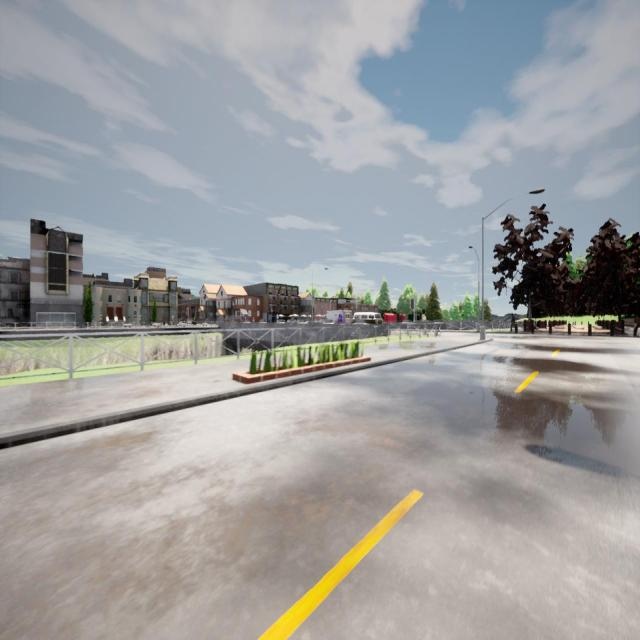Pedestrian: (509, 312, 518, 332)
Vehicle: (326, 310, 352, 325), (352, 312, 383, 324)
traffic_light: (411, 298, 414, 310)
